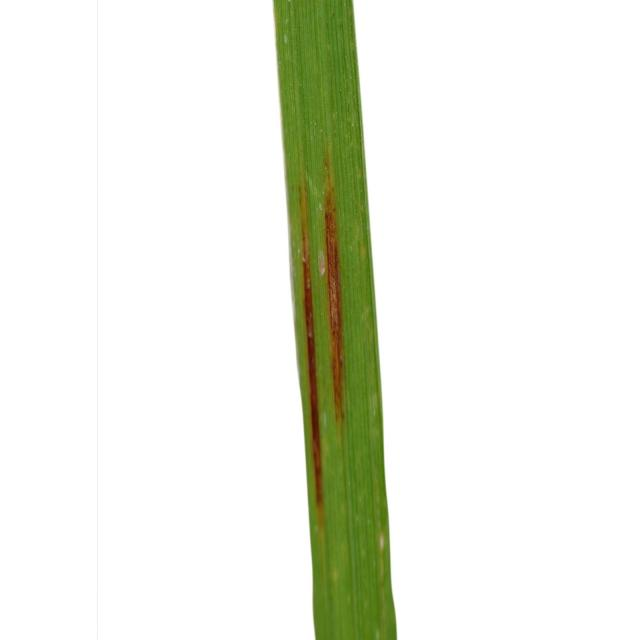Narrow brown: (237, 0, 444, 640)
